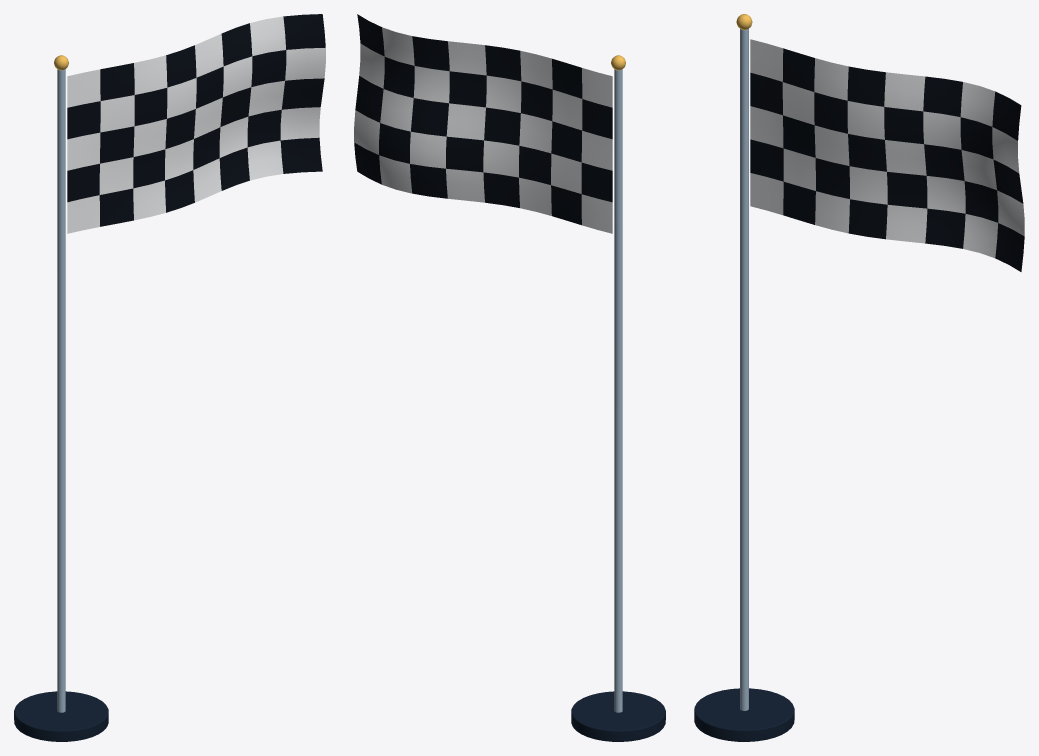
Rendered from checkered-flag.glb.
3 views of the same model, side by side, from view 1: azimuth 30°, elevation 25°; view 2: azimuth 150°, elevation 25°; view 3: azimuth 330°, elevation 25° (orthographic). The views are drawn at different scales.
Parts seen in each view (by area): view 1: Checkered cloth / animated wind, Flag pole, Flag weighted circular base; view 2: Checkered cloth / animated wind, Flag pole, Flag weighted circular base; view 3: Checkered cloth / animated wind, Flag pole, Flag weighted circular base.
Part boxes in pixels (x1,y1,x2,y2): Checkered cloth / animated wind: [67, 14, 325, 233]; Flag pole: [57, 69, 65, 712]; Flag weighted circular base: [14, 691, 108, 741]; Checkered cloth / animated wind: [354, 14, 612, 233]; Flag pole: [614, 69, 622, 712]; Flag weighted circular base: [571, 691, 665, 741]; Checkered cloth / animated wind: [750, 39, 1024, 271]; Flag pole: [740, 29, 748, 710]; Flag weighted circular base: [694, 688, 794, 741].
Size of the model in its own units: 1.32 by 2.79 by 0.36.
